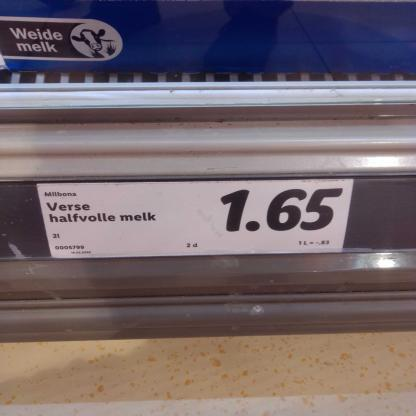prtg: (38, 179, 356, 260)
